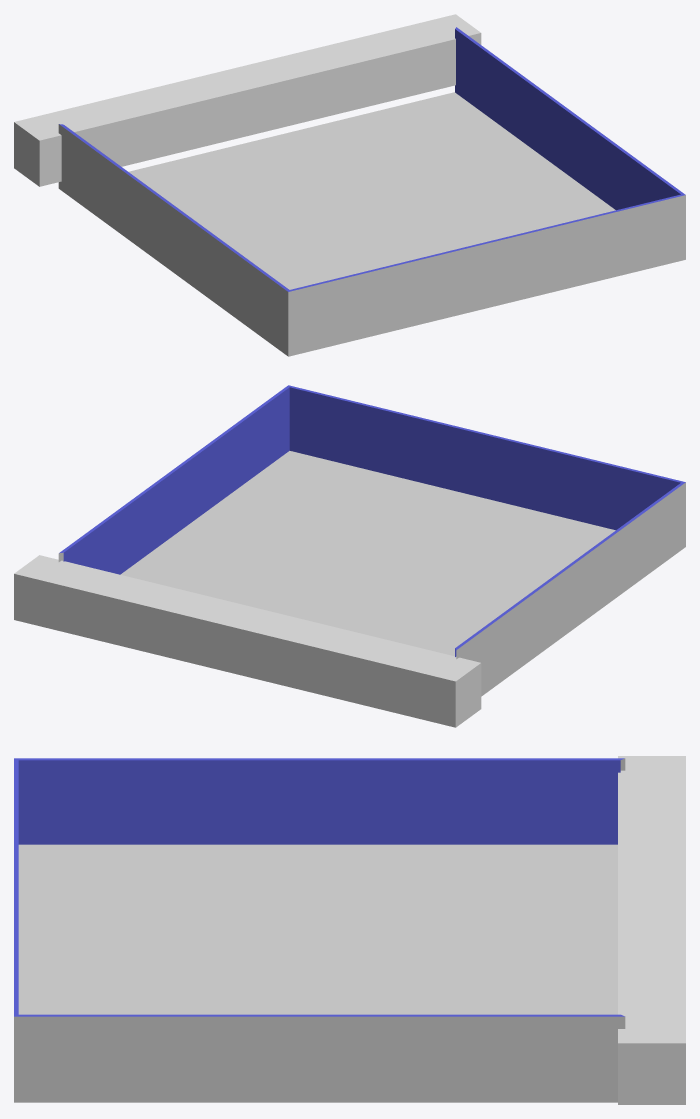
File: stage.gltf
3 renders of one model, top to bottom at view 1: azimuth 30°, elevation 25°; view 2: azimuth 150°, elevation 25°; view 3: azimuth 270°, elevation 25°, orthographic. The views are drawn at different scales.
Visible parts, largest first — view 1: Cube, COL; view 2: Cube, COL; view 3: Cube, COL.
Part boxes in pixels (x1,y1,x2,y2): Cube: [58, 27, 685, 356]; COL: [14, 14, 481, 186]; Cube: [58, 385, 685, 696]; COL: [14, 555, 481, 727]; Cube: [14, 758, 625, 1102]; COL: [618, 756, 685, 1104].
Bounding box in the file's own units: 20 × 2.8 × 19.78.
